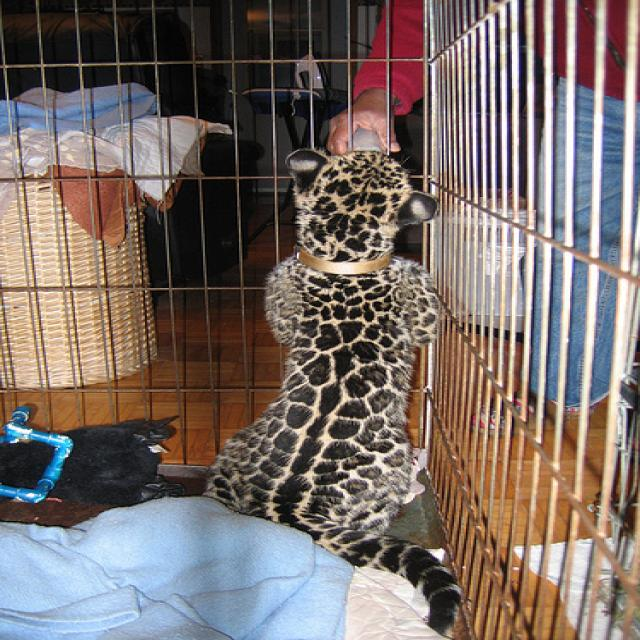Leopard: (200, 146, 464, 636)
